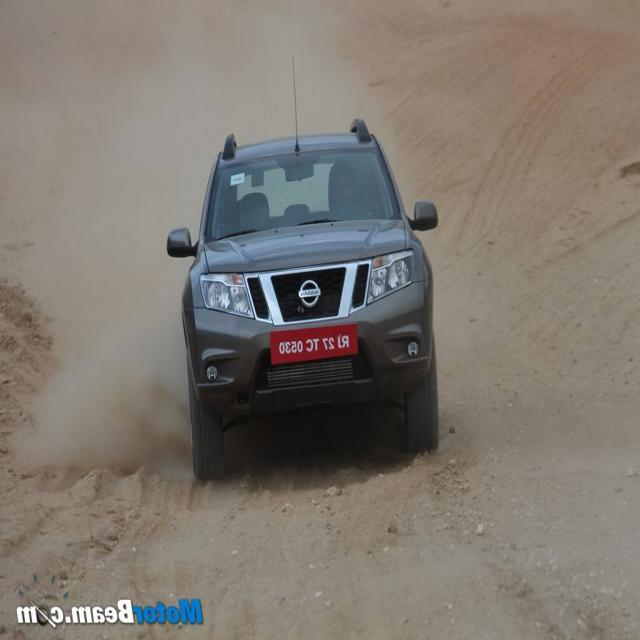license_plate: (269, 322, 359, 367)
